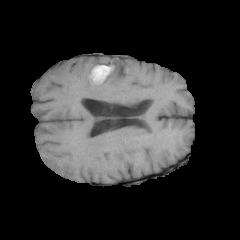glioma: (86, 56, 149, 101)
